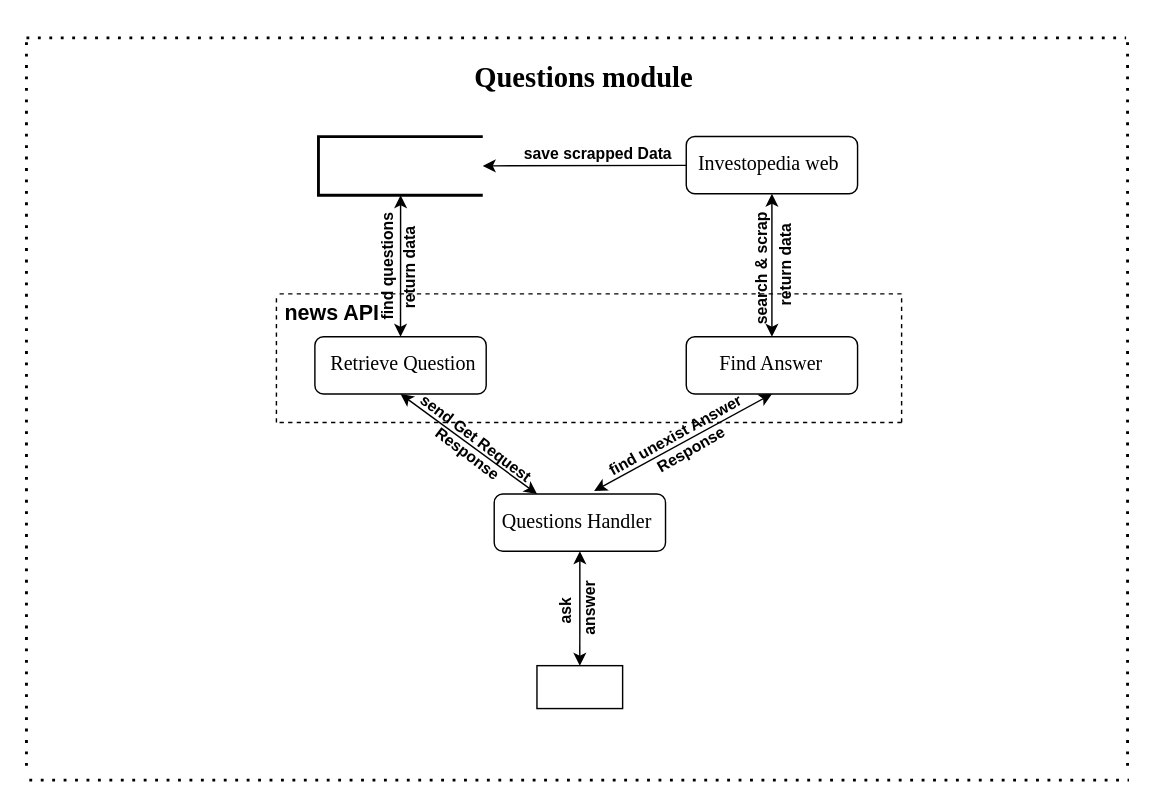
This 1155x807 diagram has some shape labels left out. Each missing label, with the box of its shape:
Question Model: (316, 134, 483, 196)
Users: (536, 664, 623, 709)
